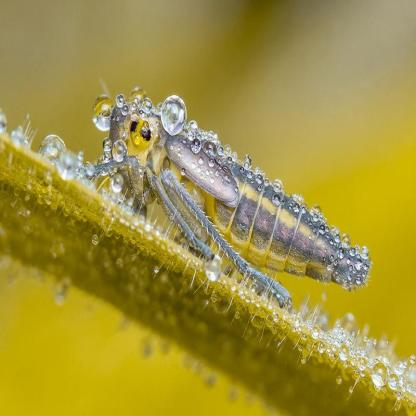Green-Leafhopper: (87, 91, 372, 321)
